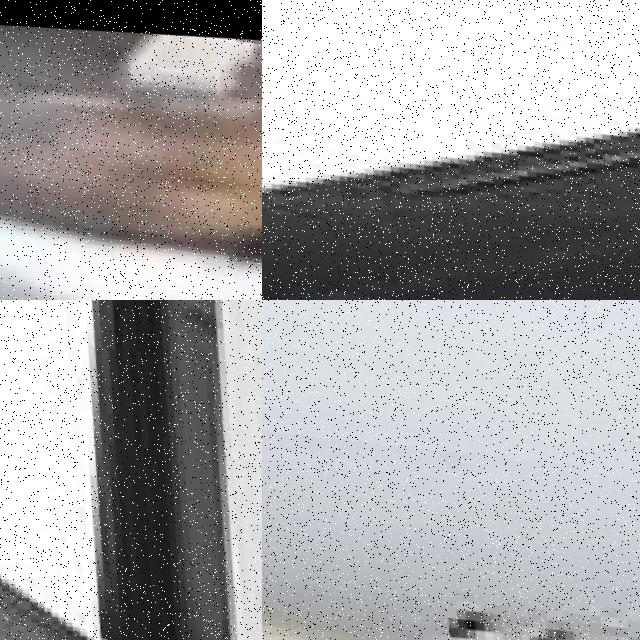0: (262, 300, 640, 640), (0, 0, 262, 300)
drone: (262, 0, 640, 300), (0, 300, 262, 640)
